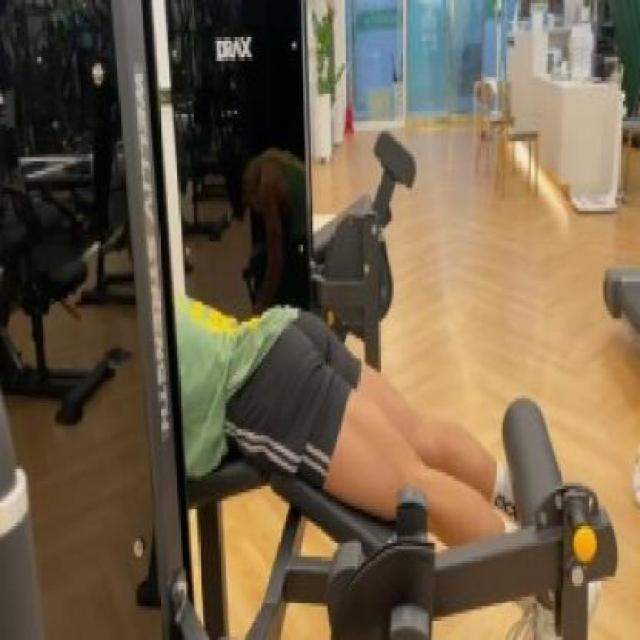reg curl machine: (112, 254, 618, 640)
